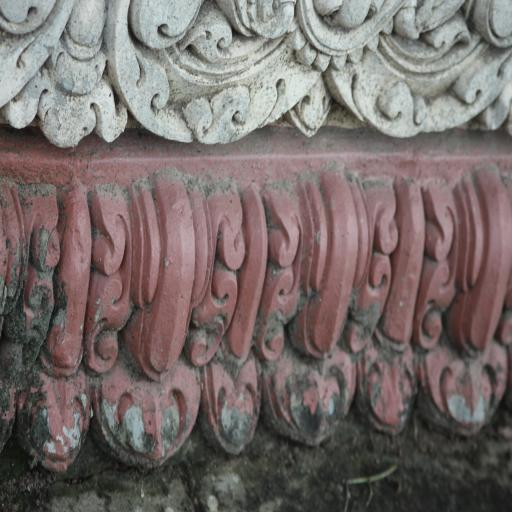la: (88, 180, 213, 478), (354, 171, 455, 441), (268, 174, 366, 450), (0, 183, 87, 476), (420, 176, 512, 436), (211, 182, 295, 466)
